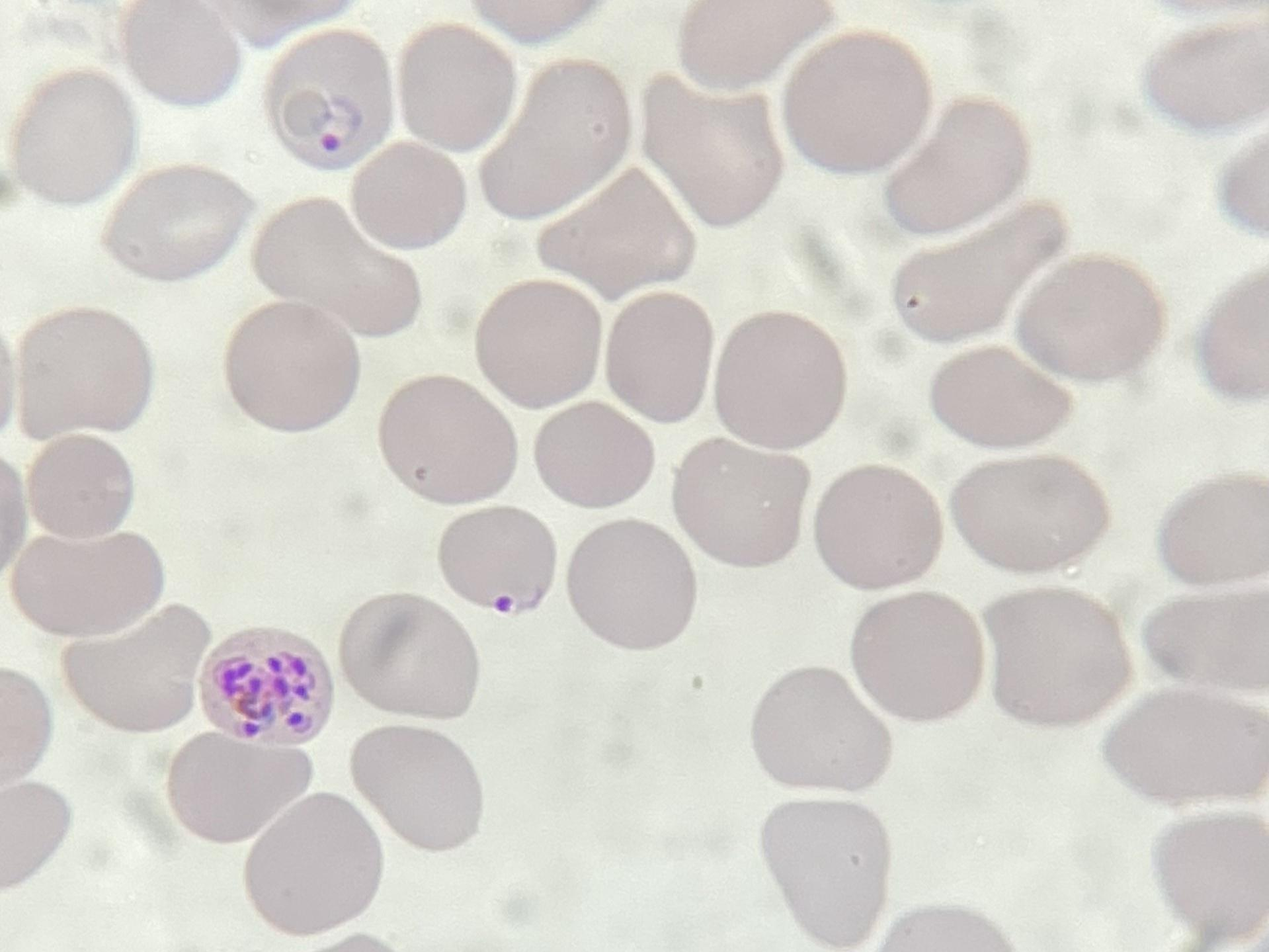Infected: (263, 28, 393, 169), (198, 626, 333, 744), (436, 505, 555, 619)
Uninfected: (250, 197, 421, 341), (892, 201, 1063, 341), (479, 60, 630, 218), (640, 73, 783, 227), (781, 34, 931, 176), (536, 166, 690, 302), (885, 97, 1034, 234), (981, 587, 1127, 726), (61, 602, 211, 734), (1102, 687, 1269, 804), (1015, 253, 1164, 383), (243, 795, 382, 933), (760, 800, 891, 946), (376, 374, 518, 507), (15, 306, 152, 441), (711, 312, 844, 450), (224, 303, 363, 435), (949, 456, 1105, 572), (672, 437, 812, 566), (102, 166, 258, 281), (338, 593, 478, 721), (848, 593, 983, 724), (751, 666, 889, 794), (12, 524, 166, 638), (10, 66, 134, 203), (472, 279, 600, 411), (351, 725, 485, 851), (812, 464, 944, 590), (565, 520, 692, 650), (166, 732, 311, 844), (395, 24, 518, 156), (1147, 812, 1269, 942), (603, 290, 716, 425), (926, 344, 1071, 449), (1146, 16, 1269, 131), (1143, 582, 1268, 695), (678, 2, 831, 93), (22, 431, 143, 542), (534, 400, 655, 511), (350, 142, 470, 253), (117, 0, 237, 107), (1157, 475, 1269, 586), (1, 779, 71, 889)
